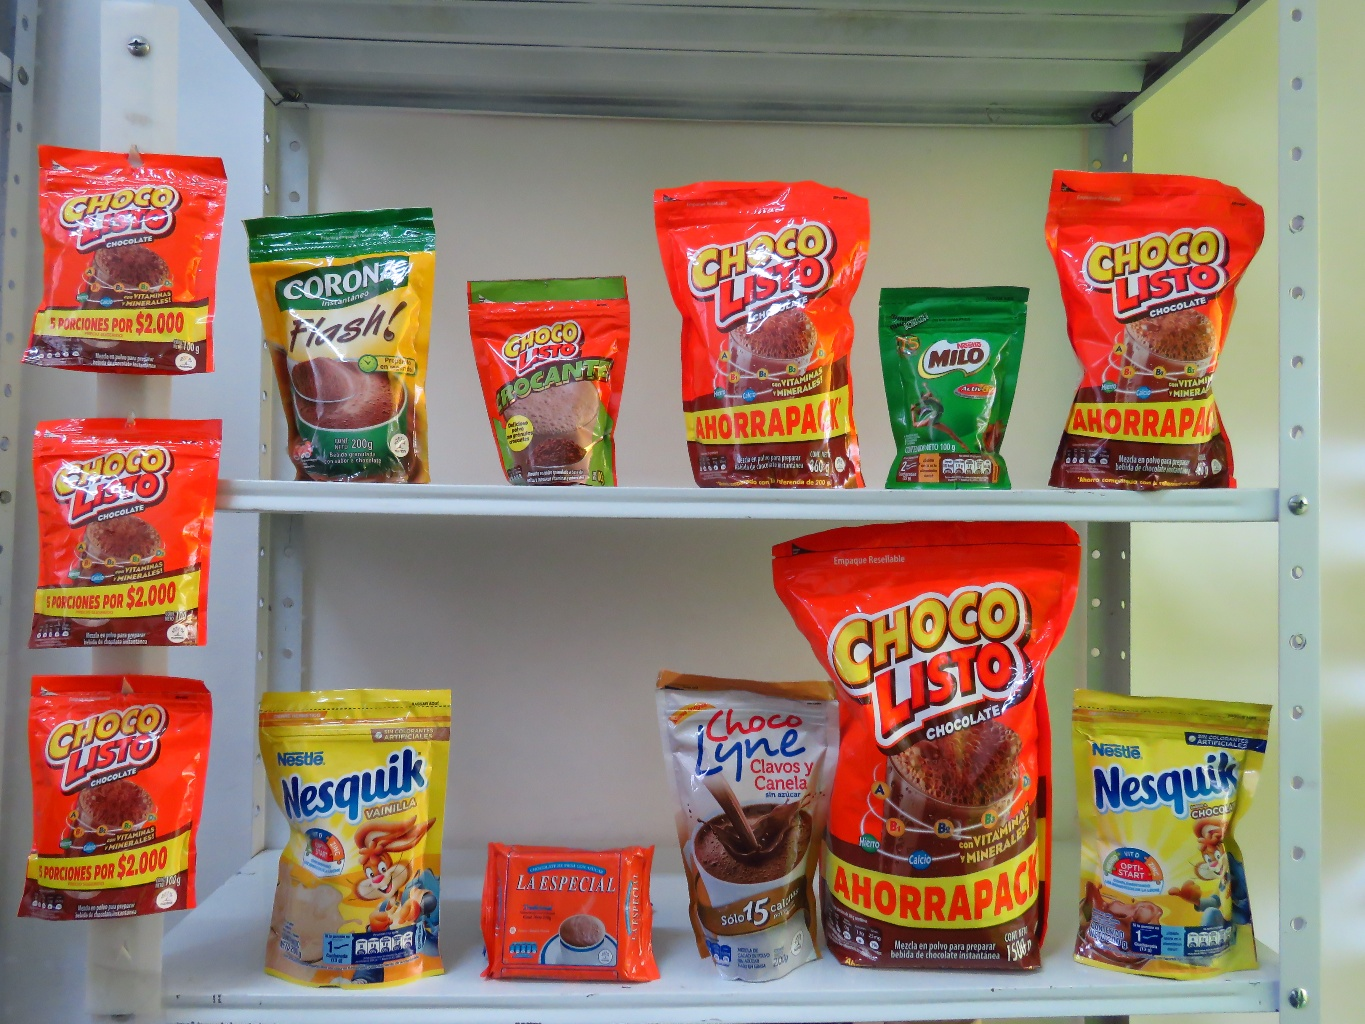COL0170102DYP10000: (455, 270, 648, 493)
COL0170103DYP1,500: (772, 512, 1076, 975)
COL0170103DYP10000: (22, 664, 228, 915)
COL0170103DYP36000: (646, 170, 890, 487)
COL0170103DYP40000: (1046, 170, 1262, 488)
COL0170203DYP10000: (876, 282, 1039, 488)
COL0170303DYP20000: (1065, 673, 1281, 981)
COL0170306DYP20000: (244, 672, 458, 998)
